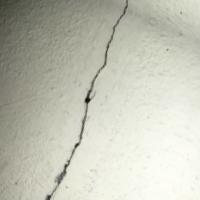crack: (35, 0, 137, 199)
